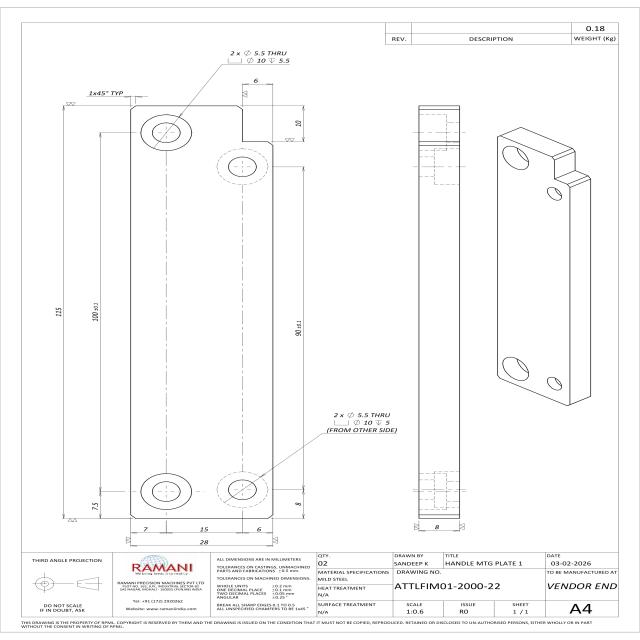dimension: (325, 411, 398, 434), (226, 49, 292, 64), (86, 90, 125, 96), (292, 320, 302, 337), (92, 302, 100, 322), (52, 306, 63, 319), (89, 501, 100, 511), (293, 120, 303, 128), (198, 526, 209, 533), (198, 539, 210, 545), (252, 77, 260, 84), (293, 502, 303, 507), (256, 526, 263, 533), (142, 526, 149, 533), (433, 524, 441, 530)
